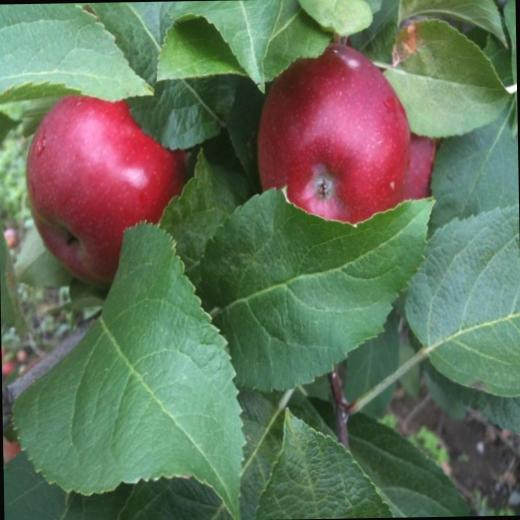Apple: (20, 87, 183, 288), (253, 38, 411, 227), (402, 125, 442, 196)
